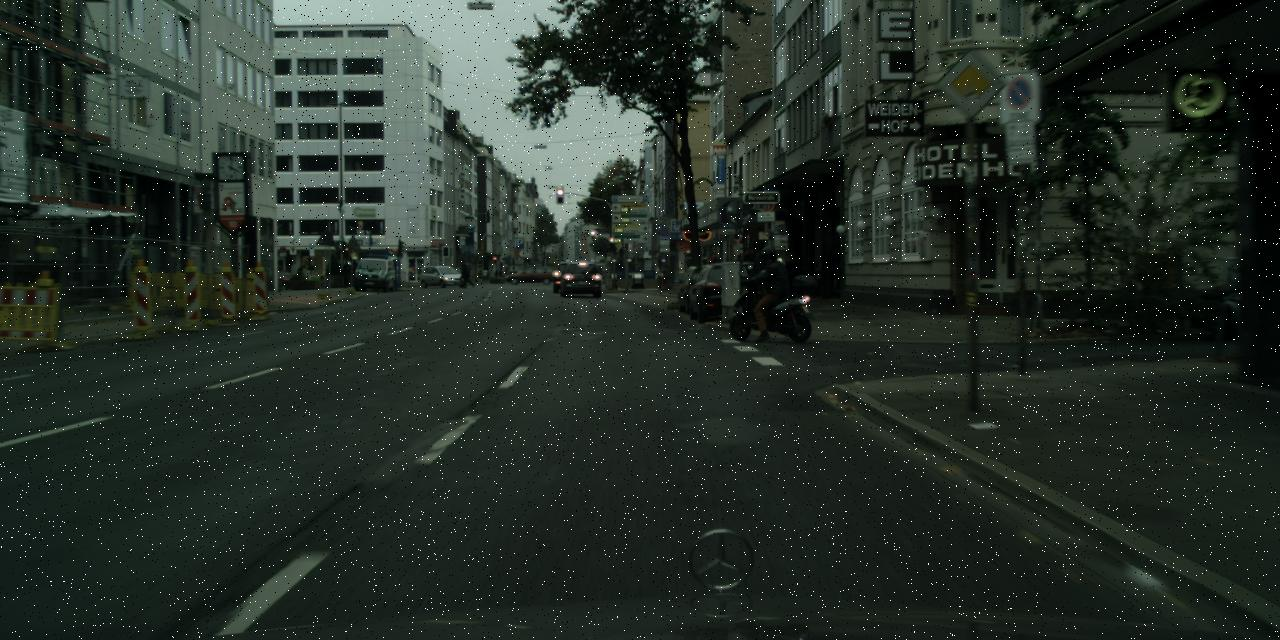ped: (754, 246, 790, 334), (752, 246, 771, 293), (734, 248, 752, 294), (705, 253, 719, 288), (461, 264, 471, 288), (497, 268, 502, 280), (493, 269, 498, 279)
